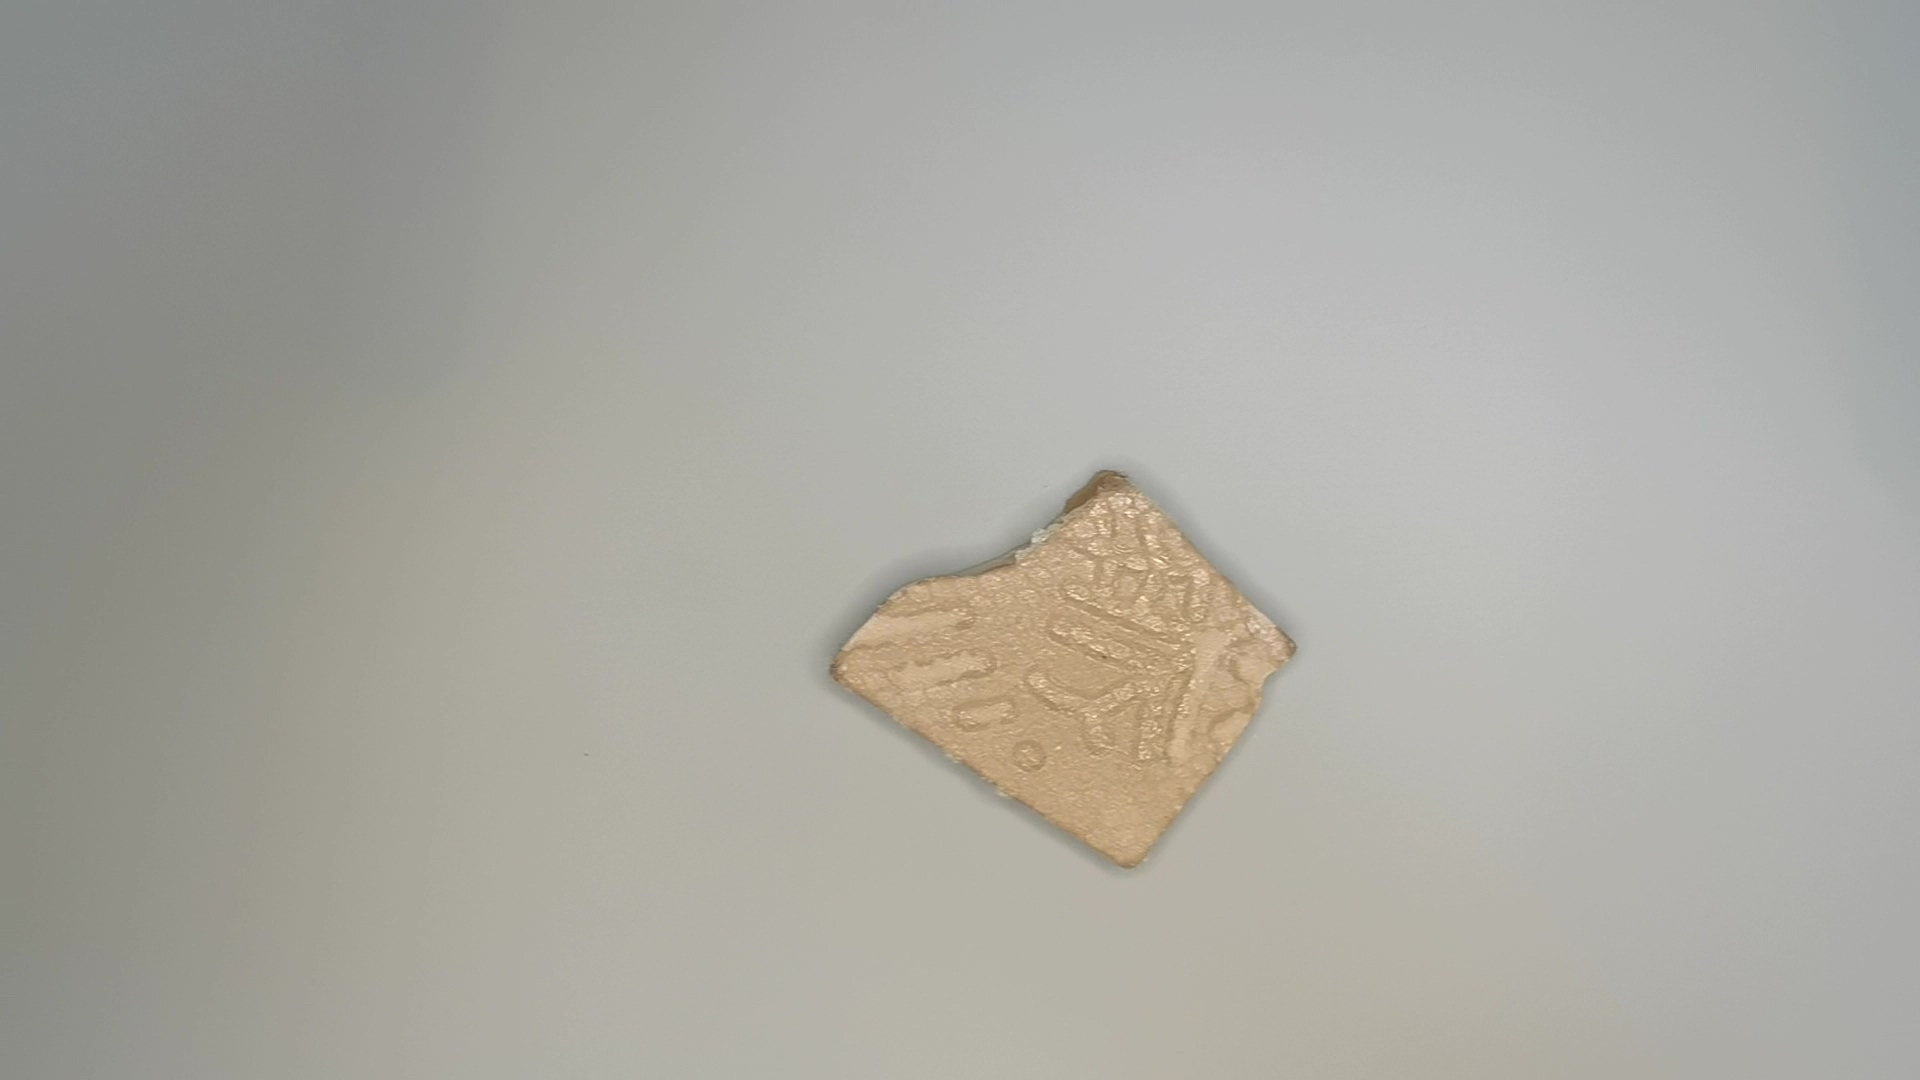ceramic: (815, 465, 1303, 878)
